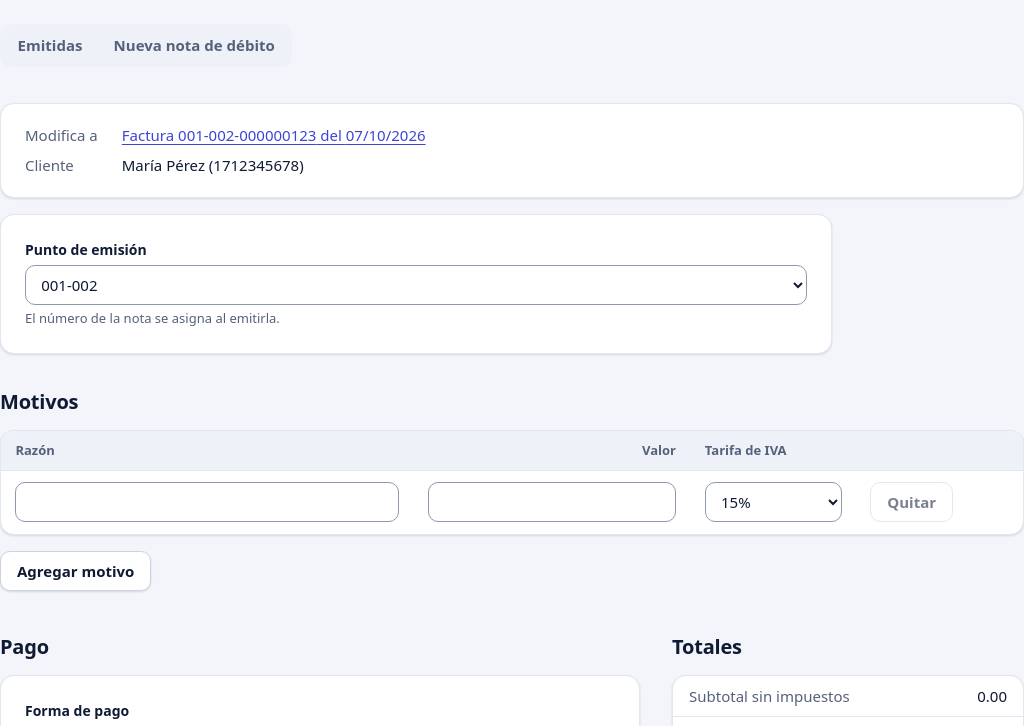
Test case: Nota de débito › previewGroupsTaxByRate
The image size is (1024, 726).
Type "Intereses de mora" into the field named "Razón del motivo 1" at (207, 502), box x1=15 y1=482 x2=399 y2=522
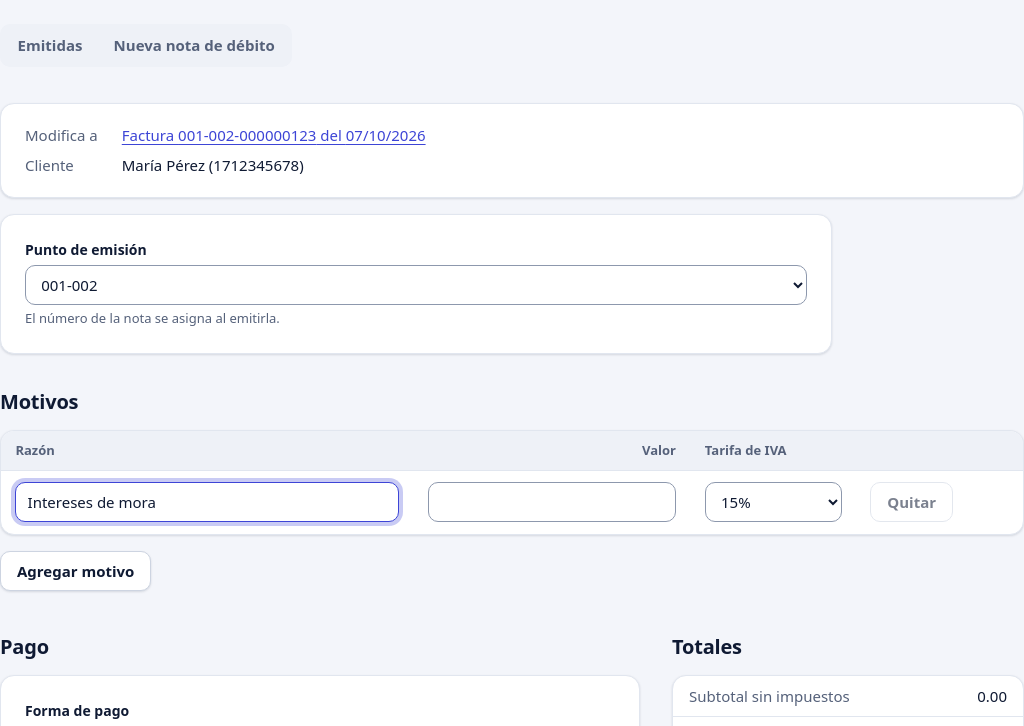
Type "10.00" into the field named "Valor del motivo 1" at (552, 502), box x1=428 y1=482 x2=676 y2=522
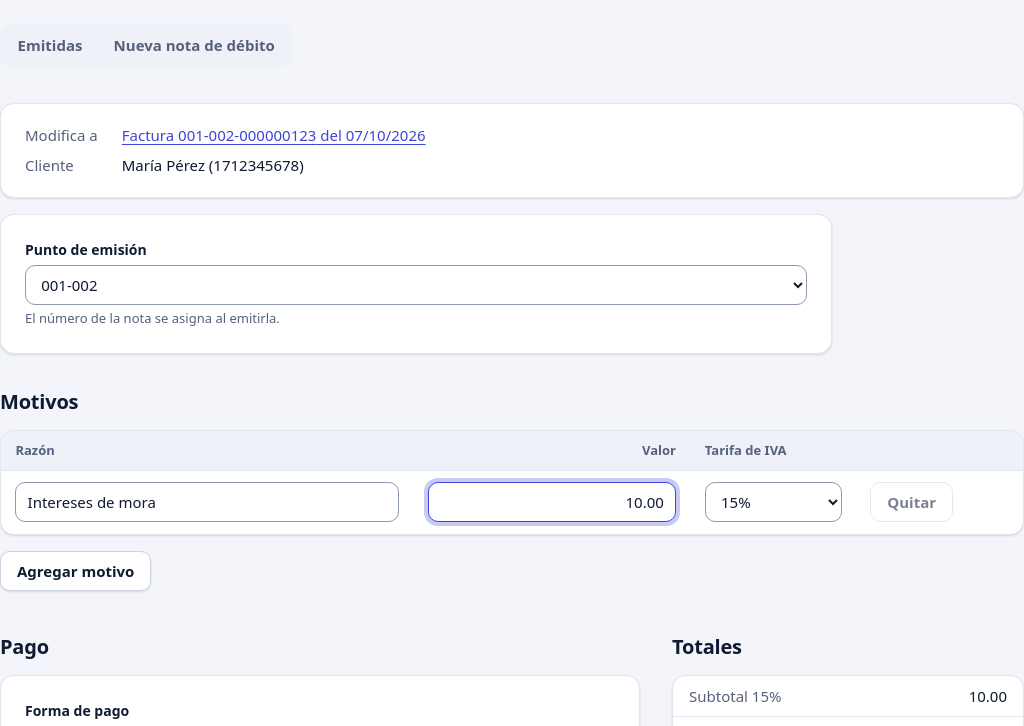
Click the button "Agregar motivo" at (76, 571), box x1=0 y1=550 x2=151 y2=591
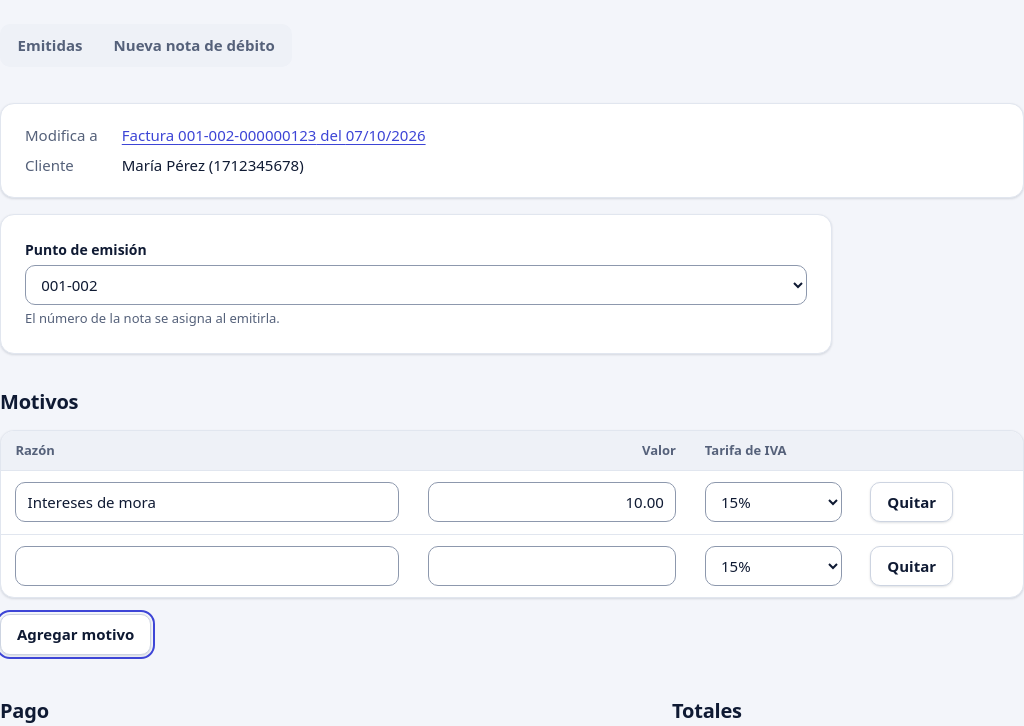
Type "Gastos de cobranza" into the field named "Razón del motivo 2" at (207, 566), box x1=15 y1=546 x2=399 y2=586
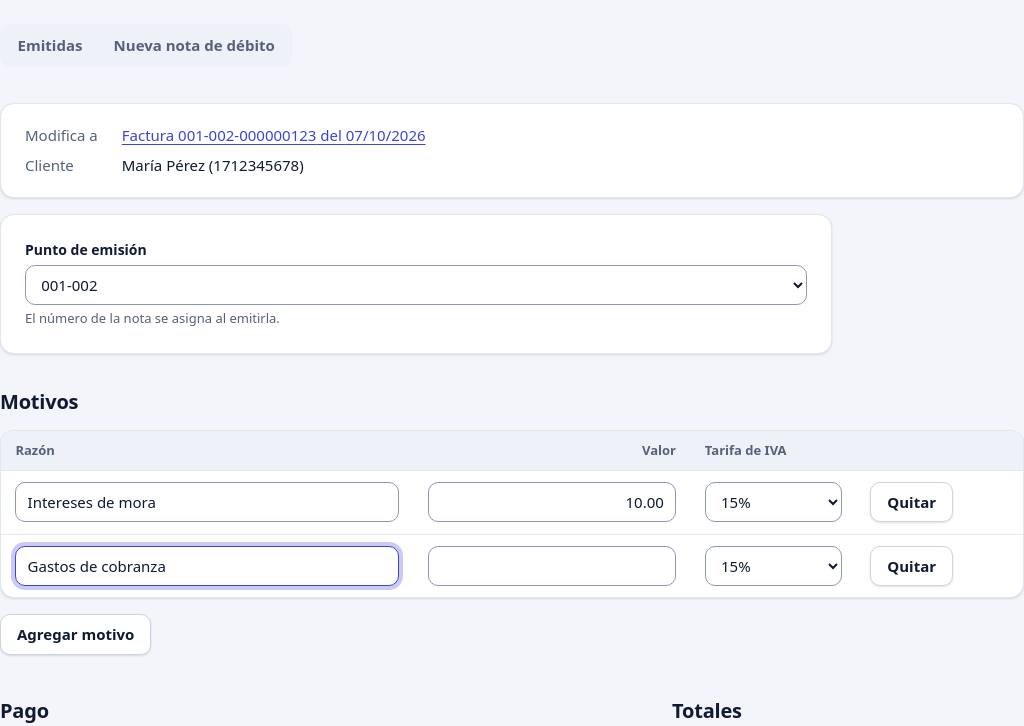
Type "3.00" into the field named "Valor del motivo 2" at (552, 566), box x1=428 y1=546 x2=676 y2=586
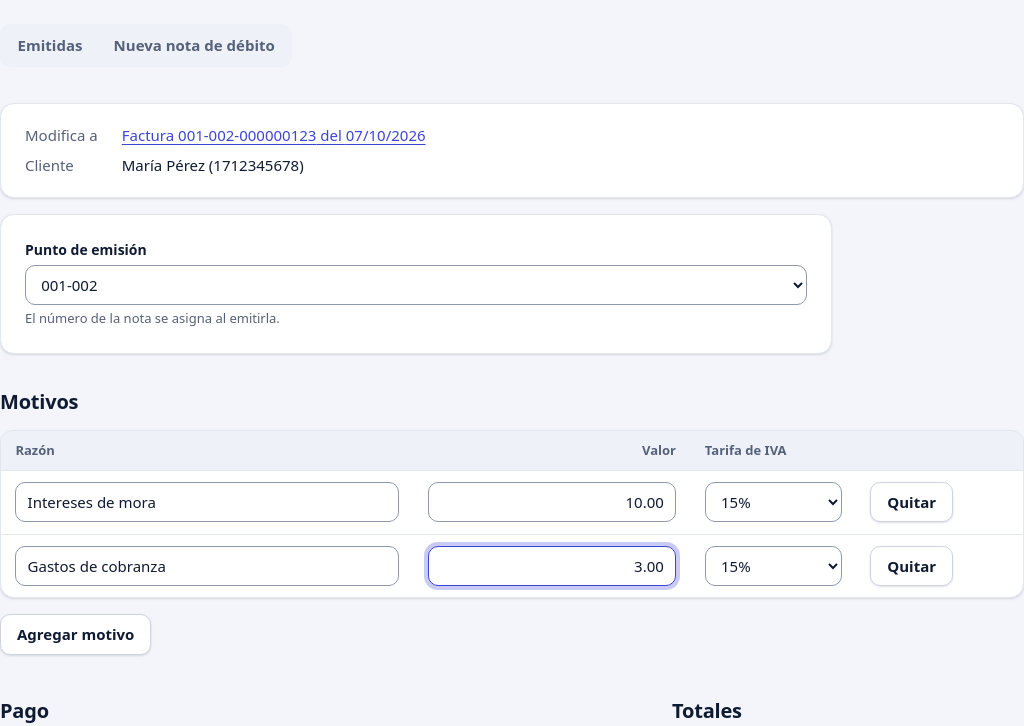
Select "0%" in the dropdown named "Tarifa de IVA del motivo 2" at (773, 566), box x1=705 y1=546 x2=842 y2=586
(page scrolled)
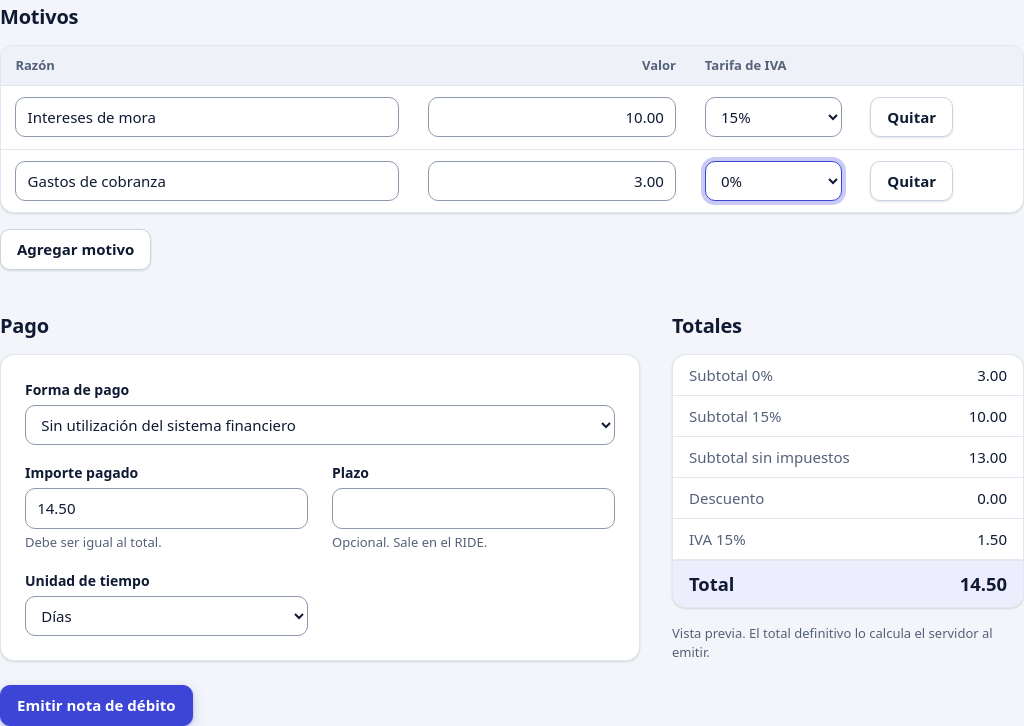
Expected: the cell "13.00" is shown, x1=921 y1=437 x2=1023 y2=478
Expected: the cell "1.50" is shown, x1=921 y1=519 x2=1023 y2=560
Expected: the cell with test id "total" reads "14.50", x1=960 y1=571 x2=1007 y2=596
